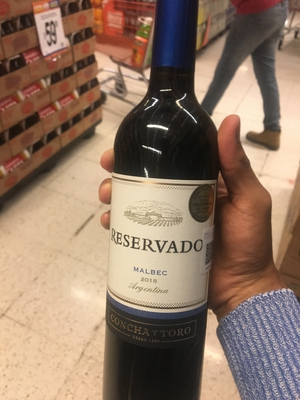reservado malbec: (110, 12, 210, 400)
